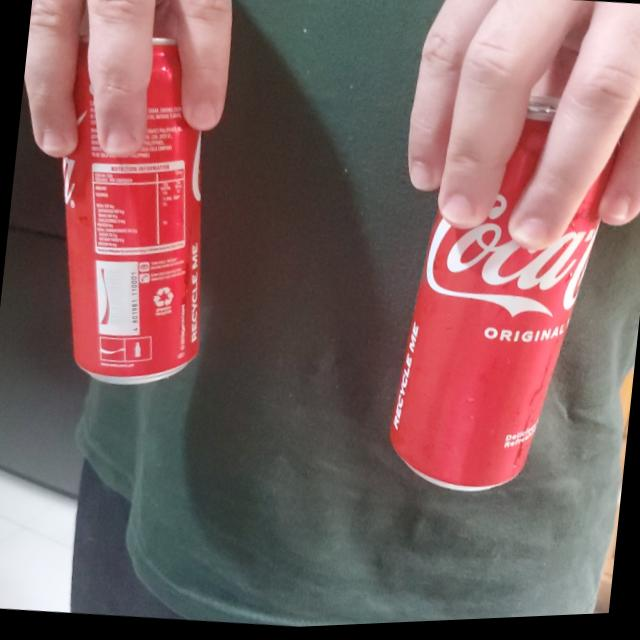coke: (379, 95, 613, 503), (34, 27, 232, 399)
